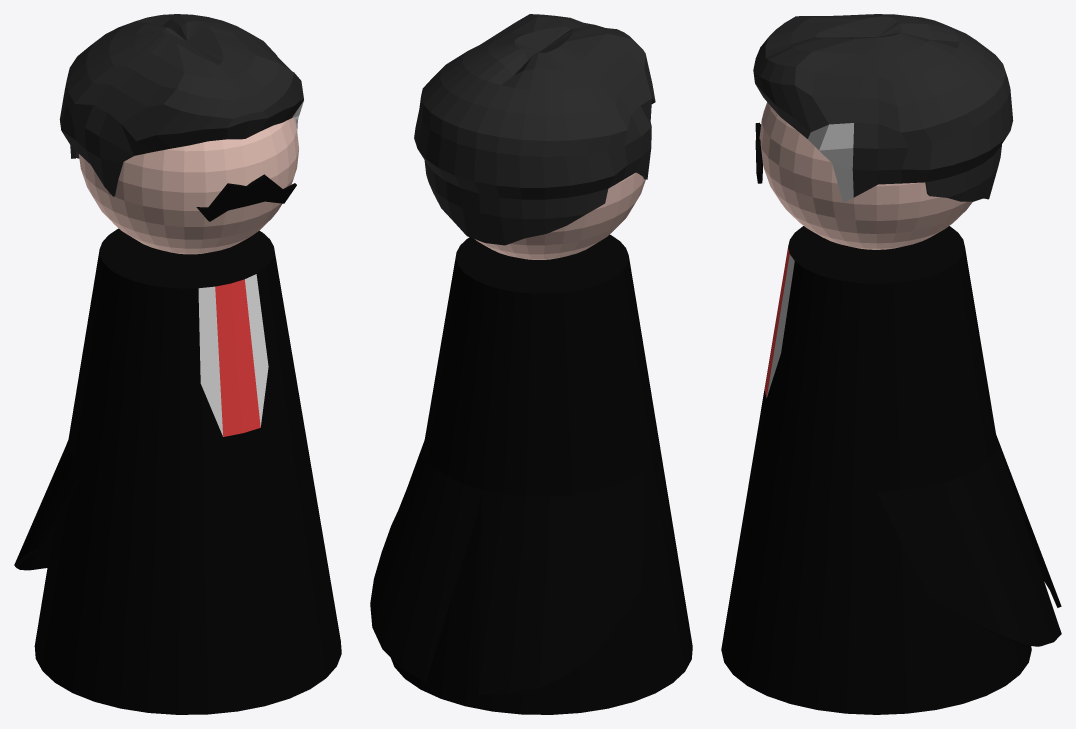
The model's file is char_maid_3.fbx.
3 views of the same model, side by side, from view 1: azimuth 30°, elevation 25°; view 2: azimuth 150°, elevation 25°; view 3: azimuth 270°, elevation 25° (orthographic). The views are drawn at different scales.
Visible parts, largest first — view 1: Body.002, Hair.004, Head.002, Mustache; view 2: Body.002, Hair.004, Head.002; view 3: Body.002, Hair.004, Head.002.
Boxes of the visible parts, x1,y1,x2,y2 form: Body.002: (14, 228, 341, 714); Hair.004: (59, 14, 303, 196); Head.002: (79, 117, 298, 254); Mustache: (196, 174, 296, 221); Body.002: (370, 234, 692, 714); Hair.004: (414, 14, 655, 245); Head.002: (475, 172, 645, 259); Body.002: (721, 226, 1061, 714); Hair.004: (753, 14, 1013, 202); Head.002: (759, 102, 972, 249).
Size of the model in its own units: 0.6921 by 1.53 by 0.7587.
